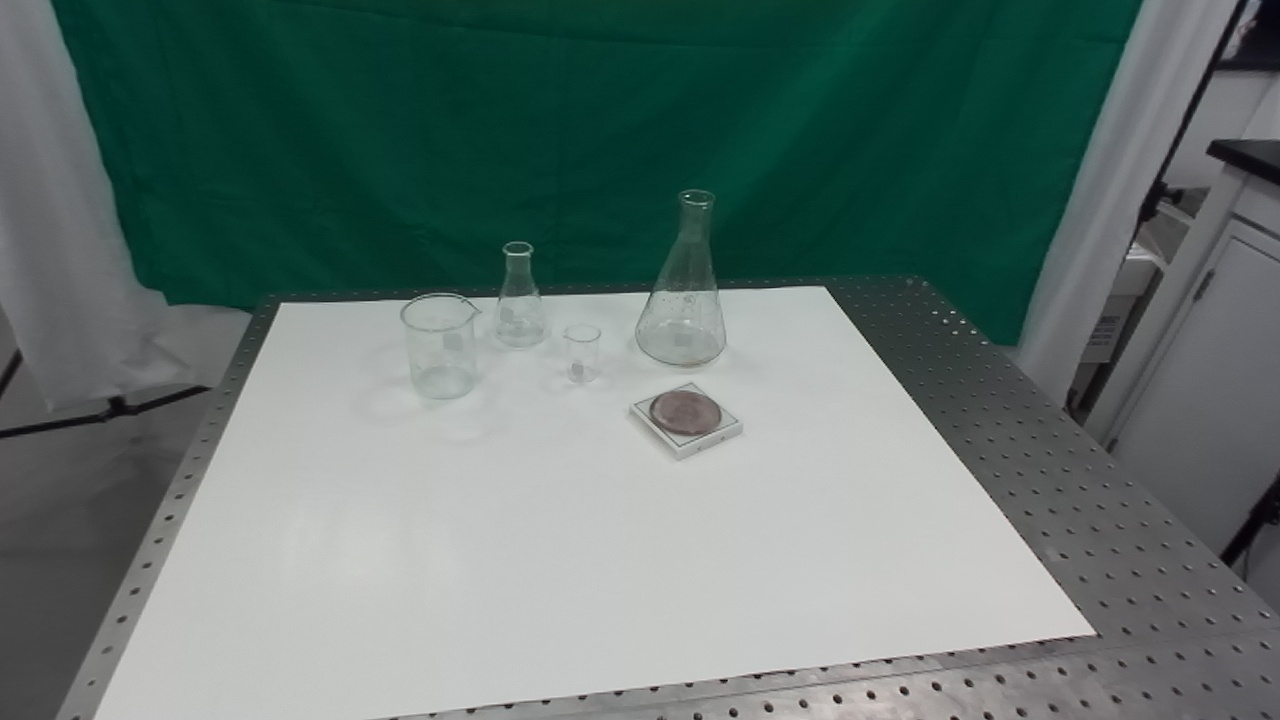glass: (632, 186, 732, 370), (398, 290, 487, 405), (489, 239, 551, 352), (559, 322, 604, 389)
plate: (630, 379, 745, 459)
